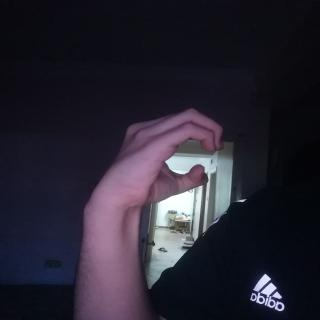JEEM: (97, 93, 239, 225)
